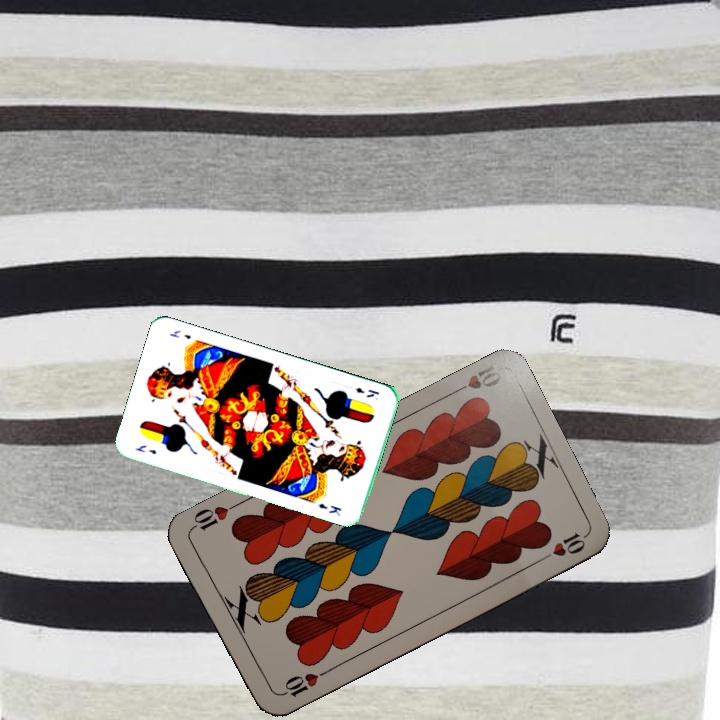EK: (351, 383, 382, 400), (131, 441, 159, 457)
H10: (446, 361, 504, 398), (275, 666, 331, 700)
